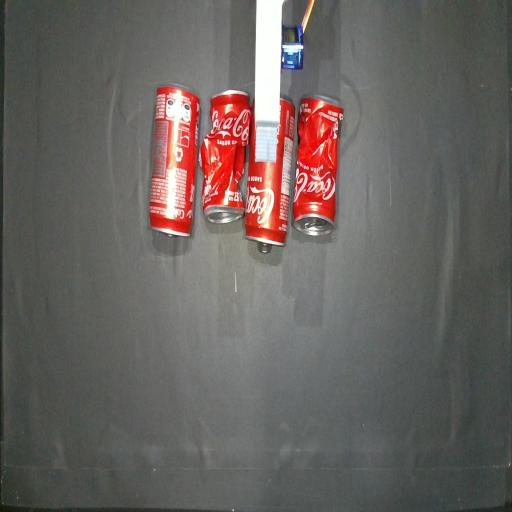lata: (149, 87, 200, 237), (245, 99, 295, 246), (252, 105, 254, 113)
lata_defectuoso: (293, 94, 343, 235), (199, 90, 251, 223)
